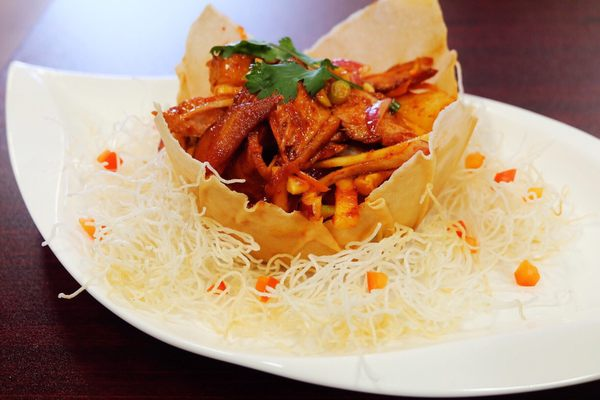soup: (305, 0, 463, 144)
